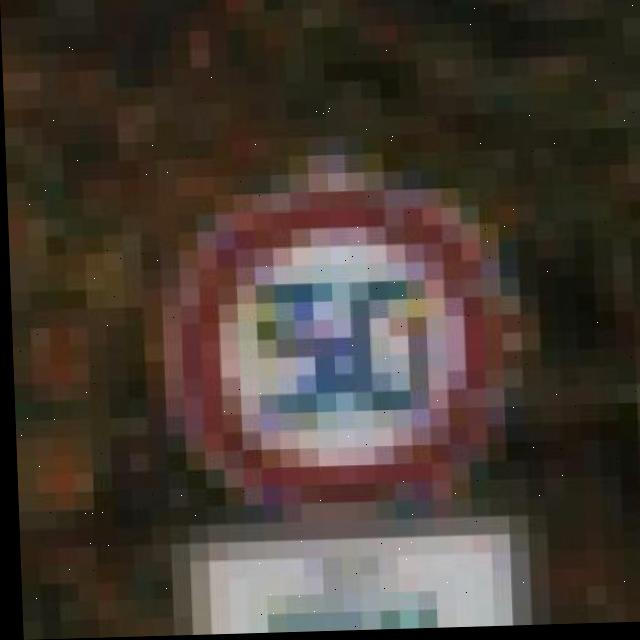Speed limit 50: (158, 155, 513, 520)
